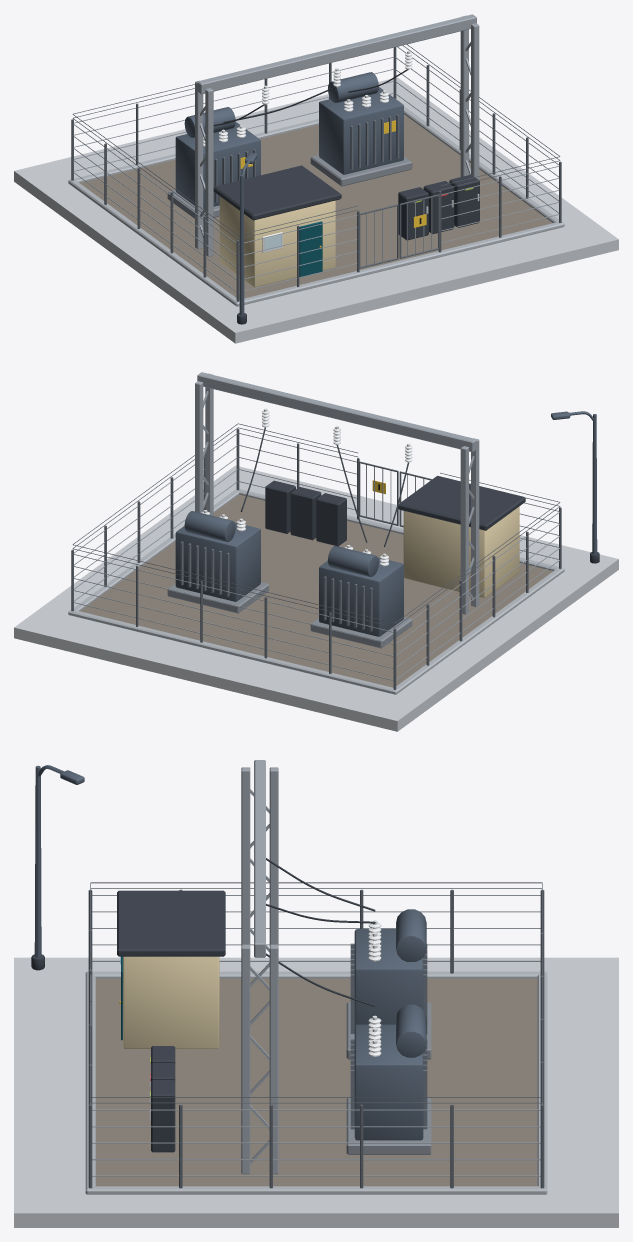
Rendered from subestacao.glb.
3 renders of one model, top to bottom at view 1: azimuth 30°, elevation 25°; view 2: azimuth 150°, elevation 25°; view 3: azimuth 270°, elevation 25°, orthographic. The views are drawn at different scales.
Visible parts, largest first — view 1: subestacao, porta_2, porta_1; view 2: subestacao, porta_2; view 3: subestacao.
Boxes of the visible parts, x1,y1,x2,y2 form: subestacao: [14, 14, 618, 343]; porta_2: [399, 194, 439, 258]; porta_1: [359, 204, 398, 268]; subestacao: [14, 372, 618, 731]; porta_2: [358, 461, 398, 525]; subestacao: [14, 760, 618, 1227].
Size of the model in its own units: 15 by 6.8 by 15.
Materials: 3 (1 with a texture image).
